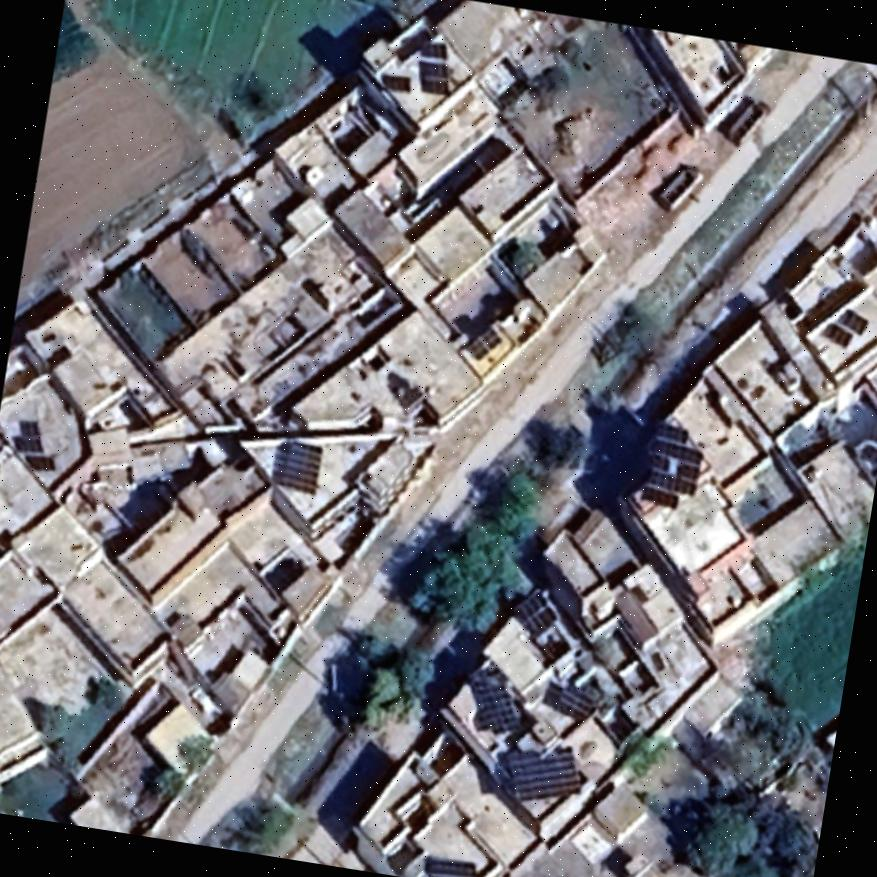Solarpanel: (495, 739, 588, 812), (268, 437, 324, 497), (411, 56, 454, 97), (640, 468, 698, 498), (646, 437, 704, 467), (418, 852, 482, 877), (636, 484, 681, 510), (649, 421, 688, 446), (376, 70, 412, 95)
